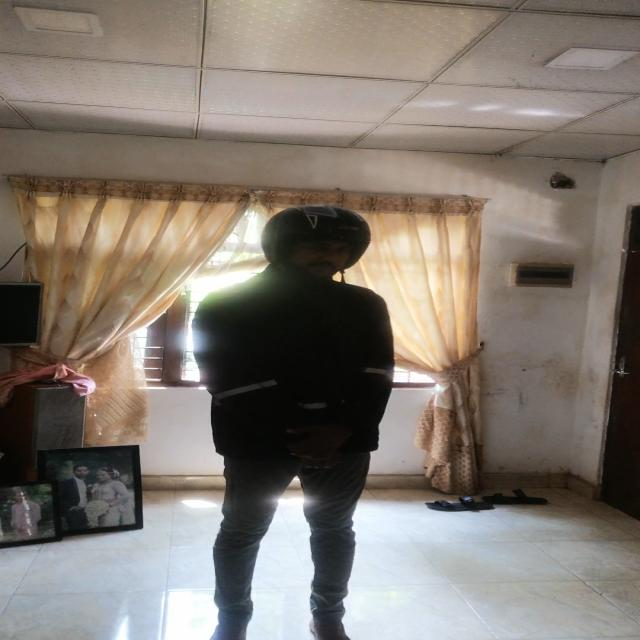Helmet_Wearer: (252, 201, 384, 298)
Jacket_Wearer: (185, 271, 408, 484)
Person: (188, 195, 413, 640)
